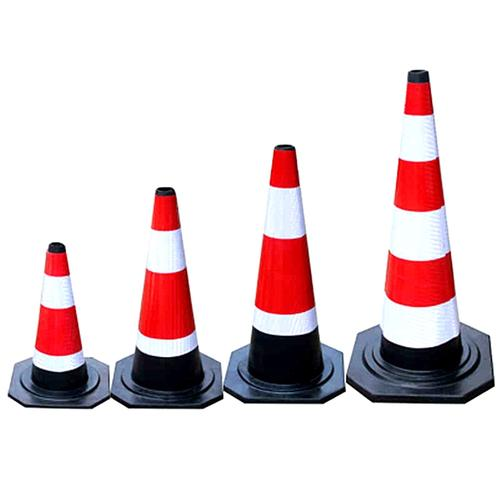traffic_cone: (339, 62, 500, 406), (222, 139, 348, 411), (114, 180, 228, 417), (4, 237, 113, 415)
